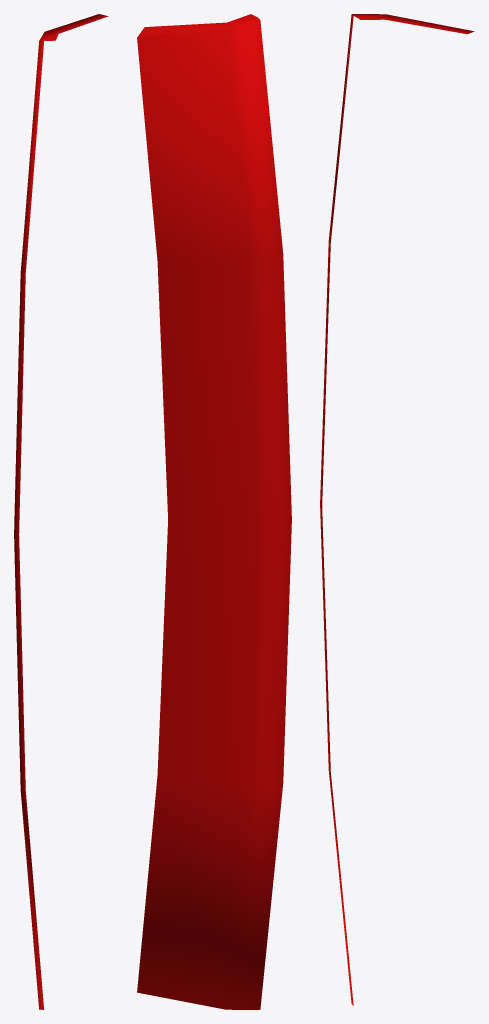
File: backlightsReverse.glb
The picture shows the model from 3 angles, left to right: view 1: azimuth 30°, elevation 25°; view 2: azimuth 150°, elevation 25°; view 3: azimuth 330°, elevation 25°; orthographic projection. The views are drawn at different scales.
Parts seen in each view (by area): view 1: backlightsReverse; view 2: backlightsReverse; view 3: backlightsReverse.
Part boxes in pixels (x1=…): backlightsReverse: x1=14, y1=14, x2=108, y2=1009; backlightsReverse: x1=137, y1=14, x2=291, y2=1009; backlightsReverse: x1=320, y1=14, x2=474, y2=1005.
Bounding box in the file's own units: 0.0313 × 0.2425 × 0.0158.
